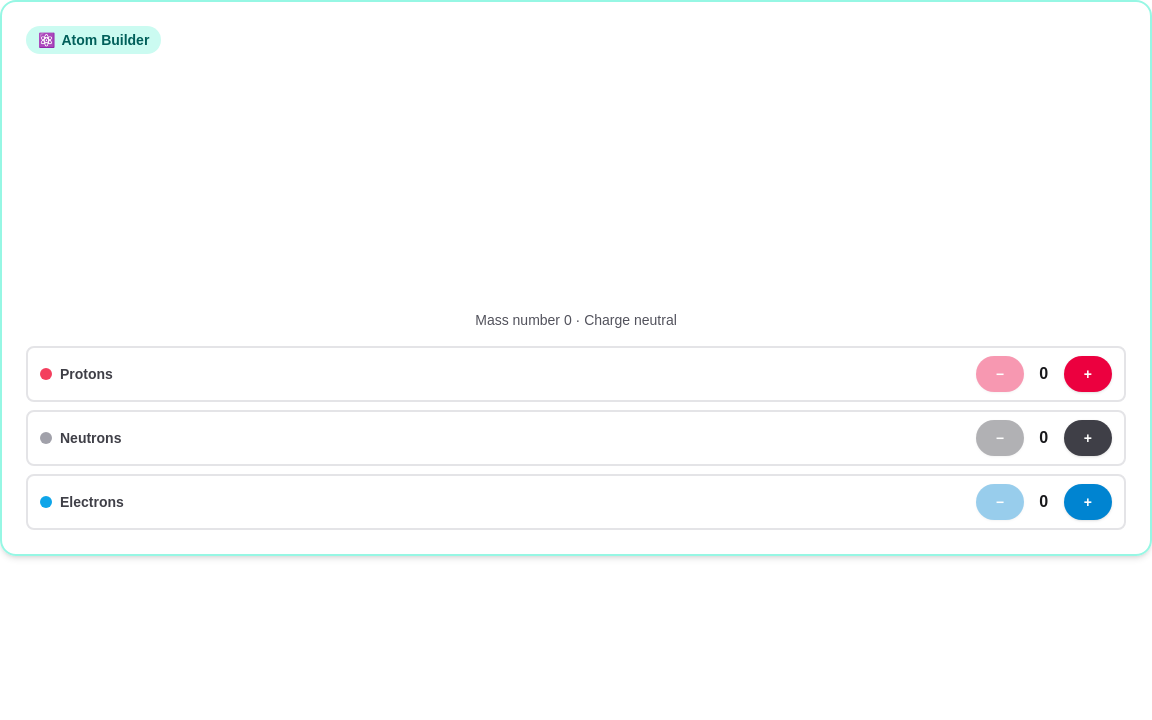
AtomBuilder › clicking + on protons immediately updates the count and the visual model
Click the button named "Add protons": (1088, 374) top-left (1064, 356), bottom-right (1112, 392)
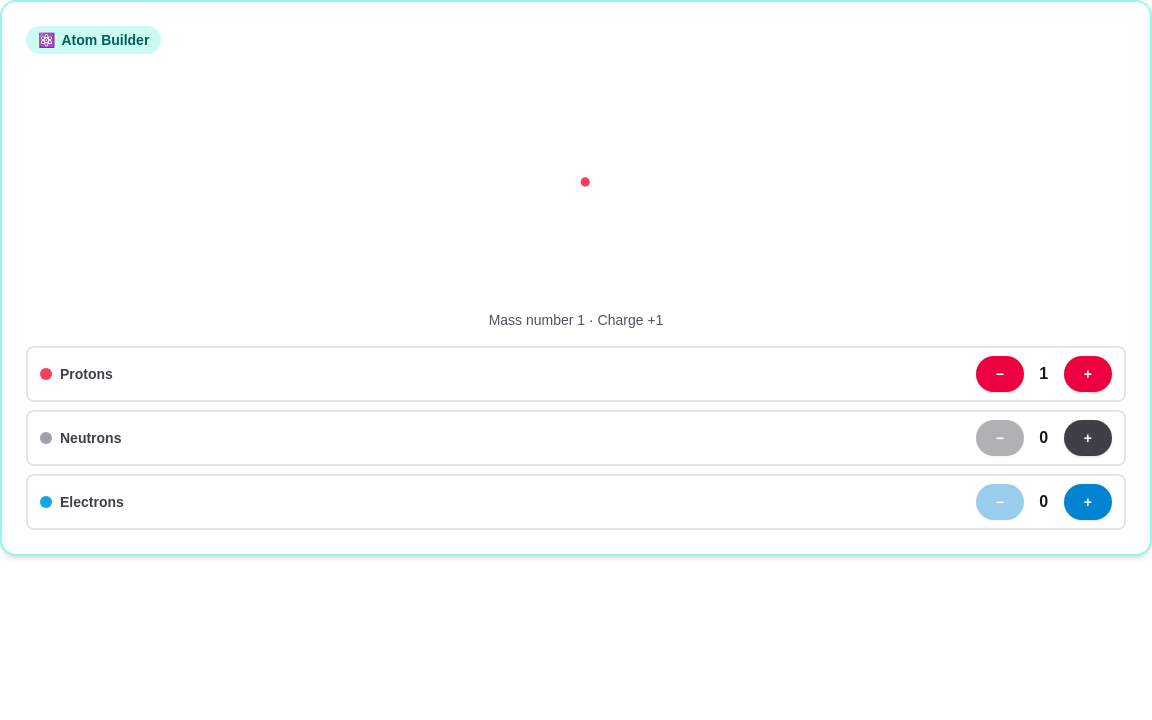
Check: the text with test id "protons-count" reads "1", box top-left (1039, 365), bottom-right (1048, 382)
Check: the text "Mass number 1 · Charge +1" is shown, box top-left (489, 312), bottom-right (663, 328)
